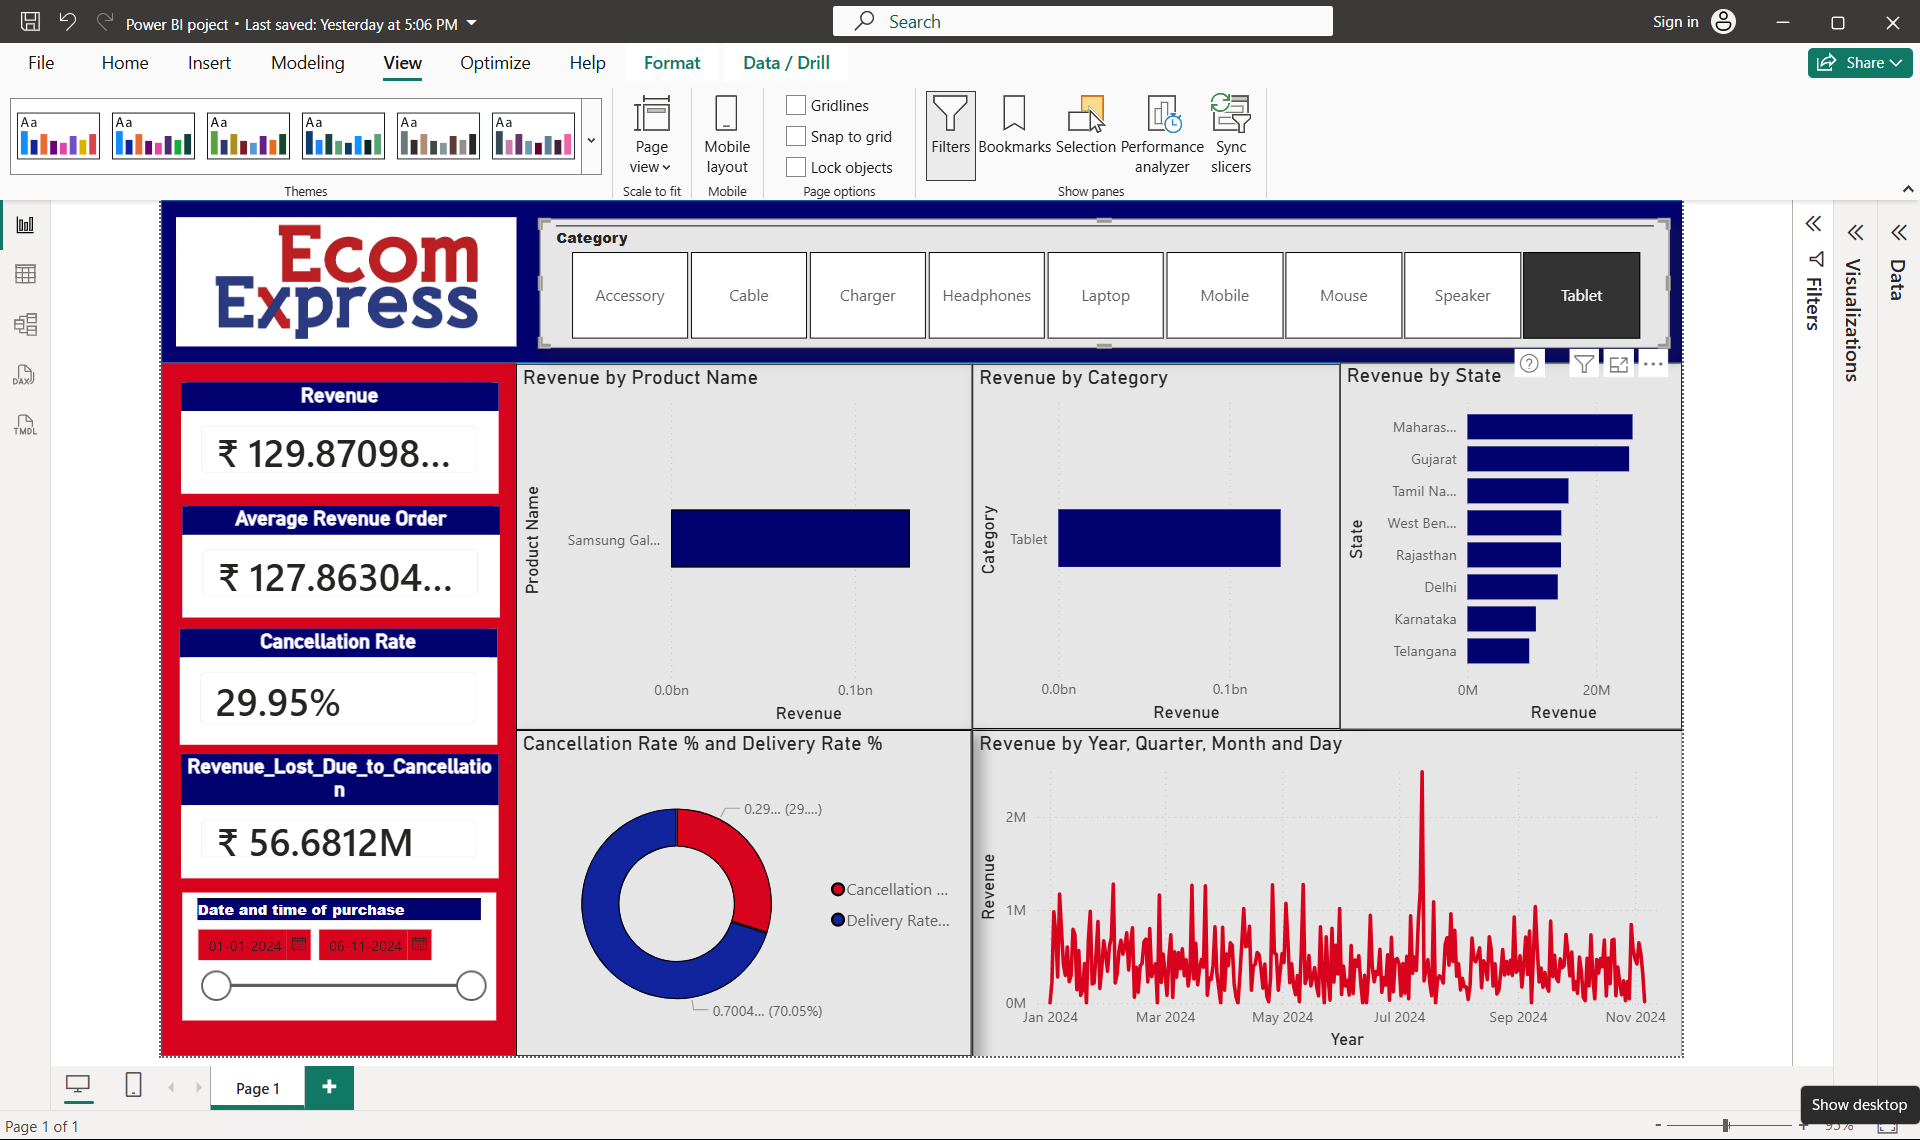

Layout of this report page (visuals, bound fields, positions):
{"tool":"powerbi","page":{"name":"Page 1","canvas":[1280,720],"ordinal":0},"visuals":[{"type":"shape","box":[0,0,1280.3,137.2],"z":0},{"type":"shape","box":[0,136.9,299,583.6],"z":1000},{"type":"image","box":[12.3,0,286.8,137.2],"z":2000},{"type":"barChart","fields":{"Y":["table.Revenue"],"Category":["Products.Product Name"]},"box":[298.6,137.7,383.8,308.1],"z":3000},{"type":"barChart","fields":{"Category":["Products.Category"],"Y":["table.Revenue"]},"box":[682,138.1,309.8,307.4],"z":4000},{"type":"lineChart","fields":{"Category":["Orders.Date and time of purchase.Variation.Date Hierarchy.Year","Orders.Date and time of purchase.Variation.Date Hierarchy.Quarter","Orders.Date and time of purchase.Variation.Date Hierarchy.Month","Orders.Date and time of purchase.Variation.Date Hierarchy.Day"],"Y":["table.Revenue"]},"box":[682,445.5,598,275],"z":5000},{"type":"barChart","fields":{"Category":["Customers.State"],"Y":["table.Revenue"]},"box":[991.8,136.9,288.2,308.6],"z":6000},{"type":"slicer","fields":{"Values":["Products.Category"]},"box":[318.6,15.4,950.2,109],"z":7000},{"type":"cardVisual","title":"Revenue","fields":{"Data":["table.Revenue"]},"box":[16.8,153.7,266.9,93.6],"z":8000},{"type":"cardVisual","title":"Average Revenue Order","fields":{"Data":["table.AverageRevenueOrder"]},"box":[18.2,257.1,266.9,93.6],"z":9000},{"type":"cardVisual","title":"Cancellation Rate","fields":{"Data":["table.Cancellation Rate"]},"box":[15.4,360.5,266.9,97.8],"z":10000},{"type":"cardVisual","title":"Revenue_Lost_Due_to_Cancellation","fields":{"Data":["table.Revenue_Lost"]},"box":[16.8,465.3,266.9,104.8],"z":11000},{"type":"slicer","fields":{"Values":["Orders.Date and time of purchase"]},"box":[18.2,582.7,264.1,107.6],"z":12000},{"type":"donutChart","fields":{"Y":["table.Cancellation Rate","table.Delivery Rate %"]},"box":[299,446,383,274],"z":13000}]}

Visuals, with their boxes on the page's 1280x720 design canvas (x1, y1, x2, y2). These are canvas units, not pixel positions in the 1920x1140 screenshot, which may show the page scaled, cropped or inside an application window:
shape: <box>0,0,1280,137</box>
shape: <box>0,137,299,720</box>
image: <box>12,0,299,137</box>
barChart - table.Revenue x Products.Product Name: <box>299,138,682,446</box>
barChart - Products.Category x table.Revenue: <box>682,138,992,446</box>
lineChart - Orders.Date and time of purchase.Variation.Date Hierarchy.Year x Orders.Date and time of purchase.Variation.Date Hierarchy.Quarter: <box>682,446,1280,720</box>
barChart - Customers.State x table.Revenue: <box>992,137,1280,446</box>
slicer - Products.Category: <box>319,15,1269,124</box>
"Revenue" cardVisual: <box>17,154,284,247</box>
"Average Revenue Order" cardVisual: <box>18,257,285,351</box>
"Cancellation Rate" cardVisual: <box>15,360,282,458</box>
"Revenue_Lost_Due_to_Cancellation" cardVisual: <box>17,465,284,570</box>
slicer - Orders.Date and time of purchase: <box>18,583,282,690</box>
donutChart - table.Cancellation Rate x table.Delivery Rate %: <box>299,446,682,720</box>
